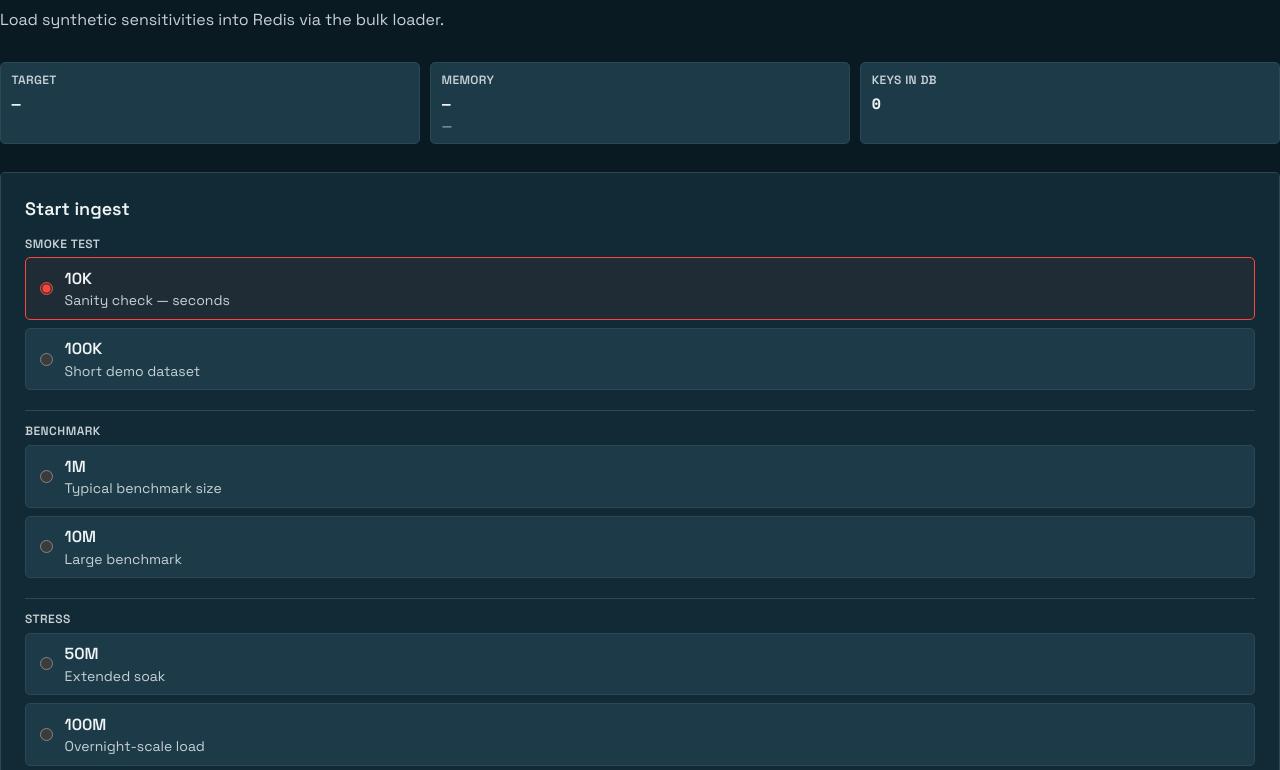
IngestPanel — workers control (preset surface) › updates workers when a larger preset is selected
Click the label with test id "ingest-preset-large". click: point(80, 537)
box: [25, 516, 1255, 578]
(page scrolled)
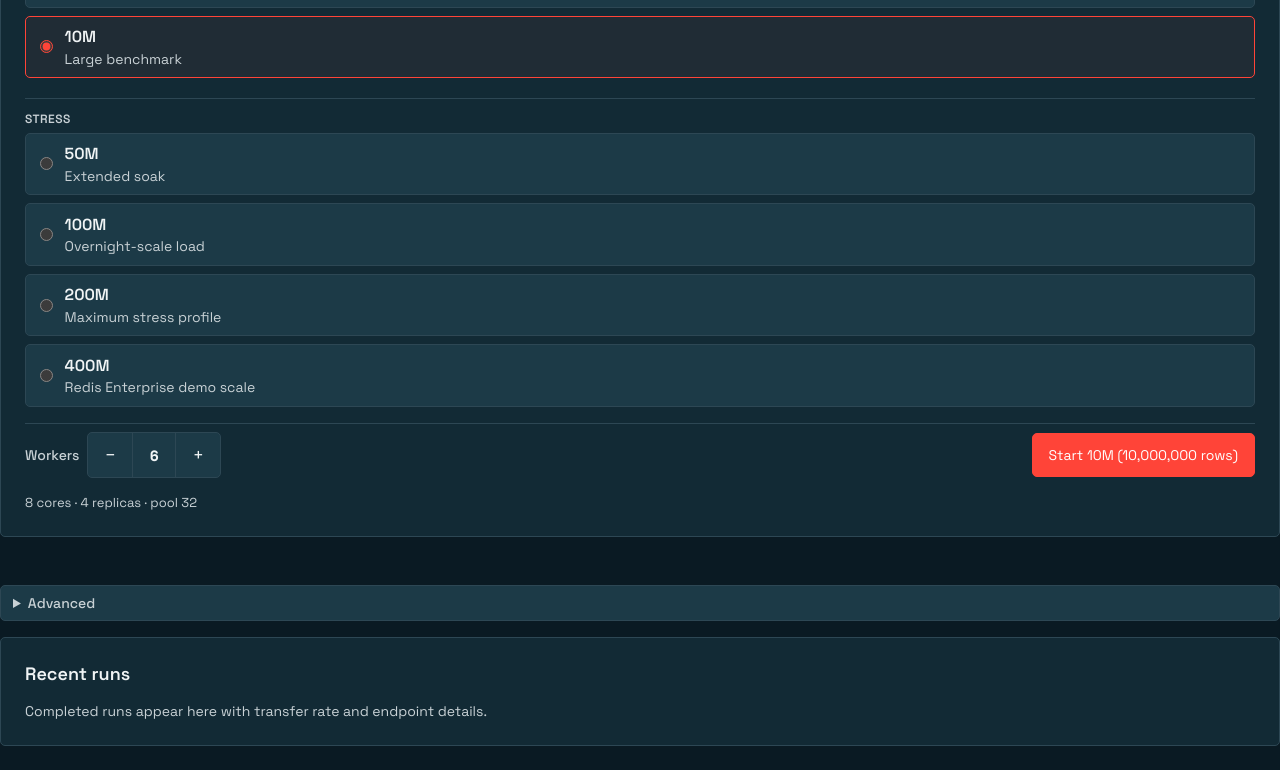
Result: the text with test id "ingest-workers-value" reads "6" at [150, 444, 159, 466]
